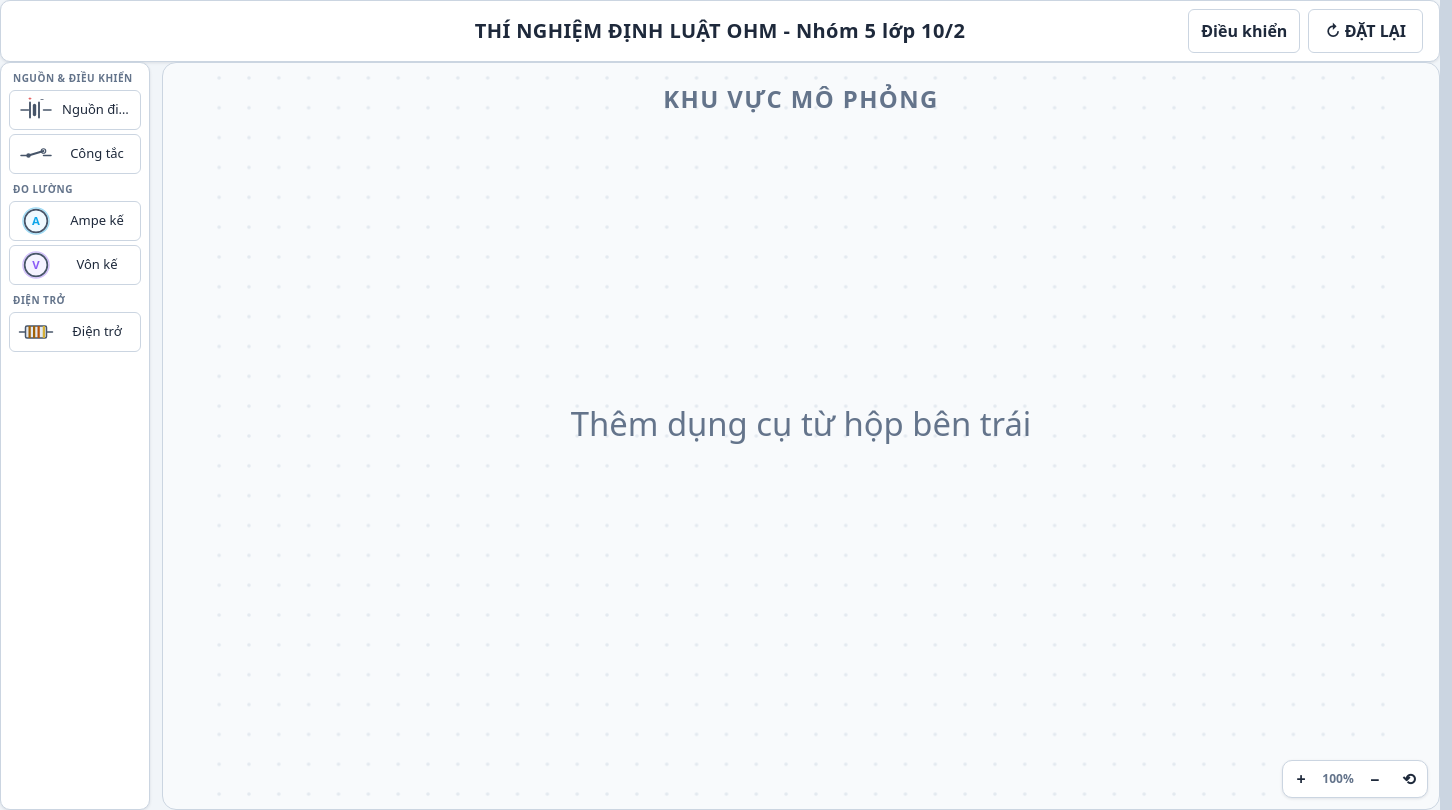
Test case: Phase 1 experiment shell › opens the sidebar from the toolbar and shows control rail
Click the button "Điều khiển" at (1244, 31), box [1188,9,1300,53]
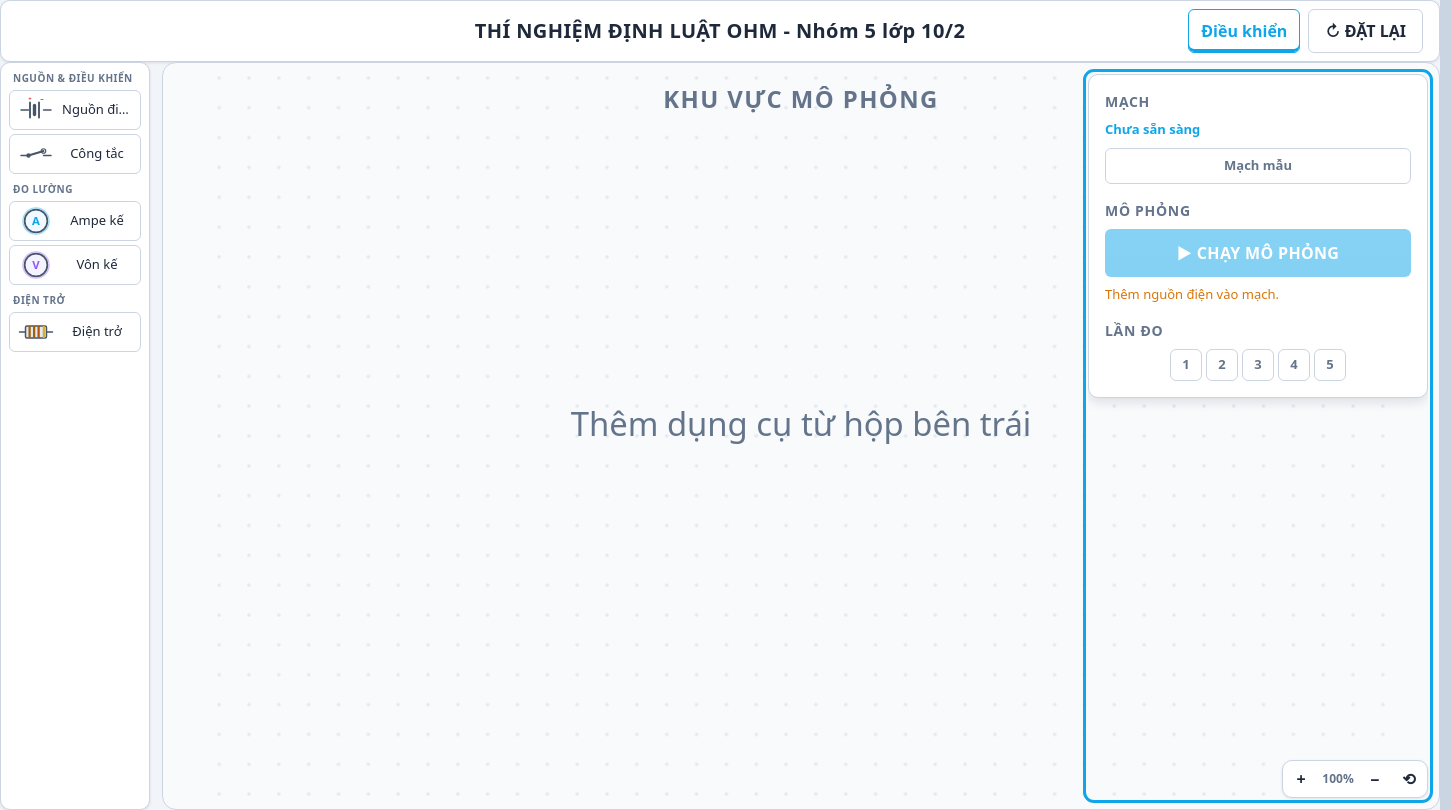
Expected: the button "Điều khiển" is expanded, [1188,9,1300,53]
Expected: the element with test id "control-rail" is shown, [1088,74,1428,398]
